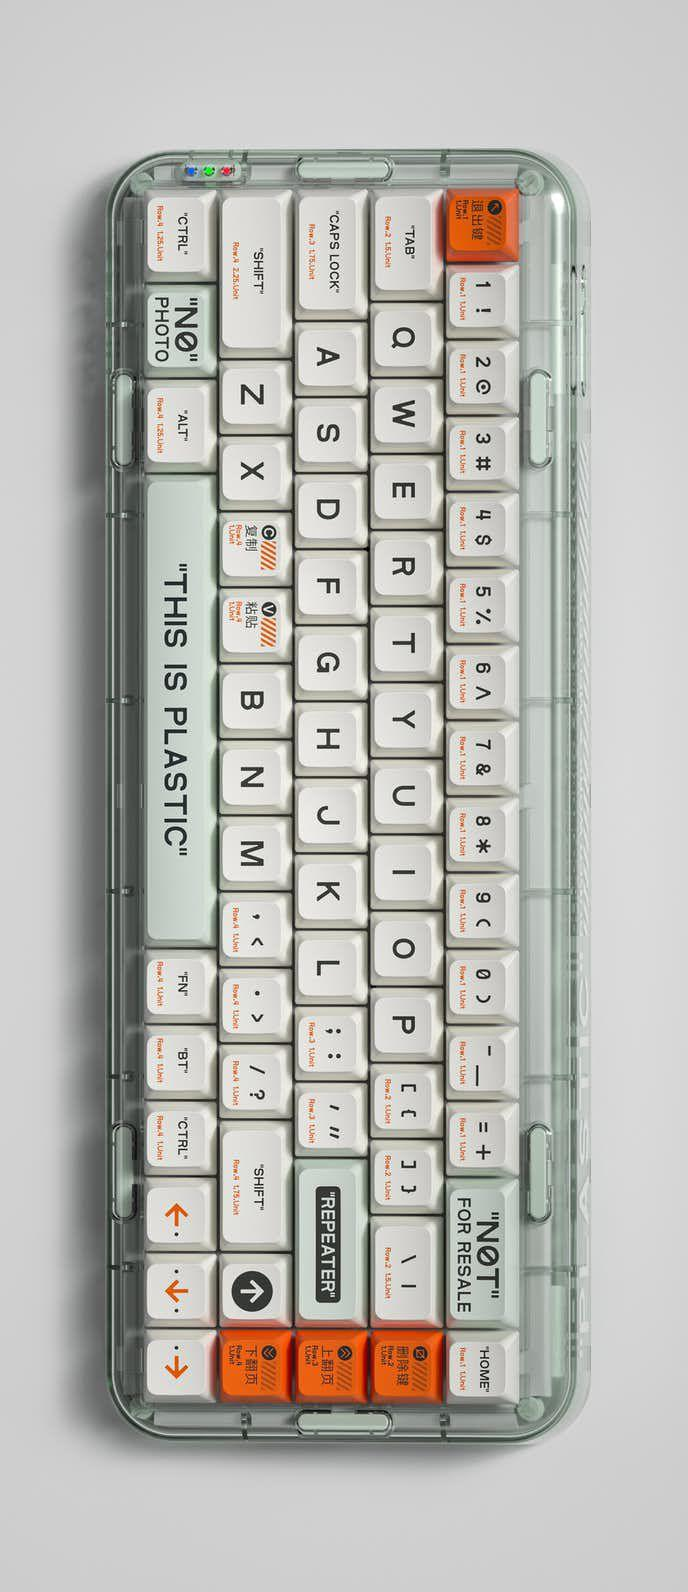keyboard: (102, 146, 593, 1444)
